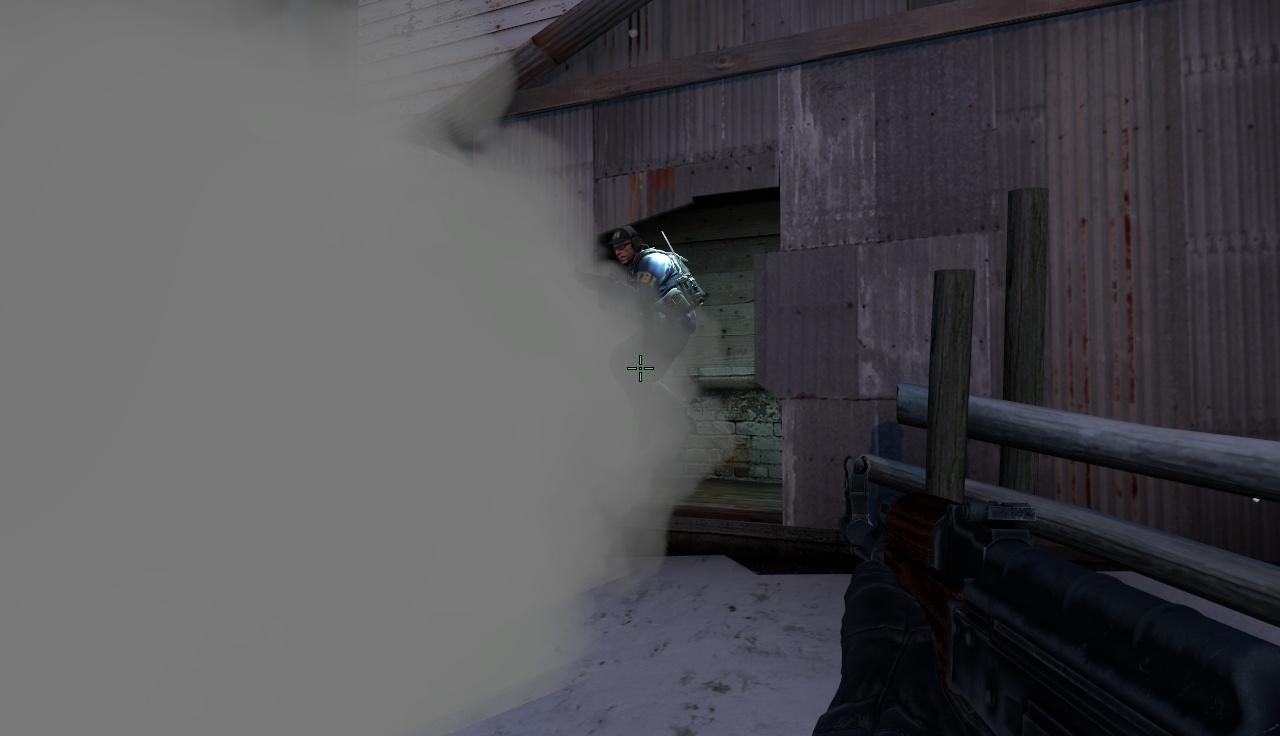ct: (600, 227, 696, 405)
cthead: (611, 227, 641, 267)
rifle: (827, 458, 1280, 736)
